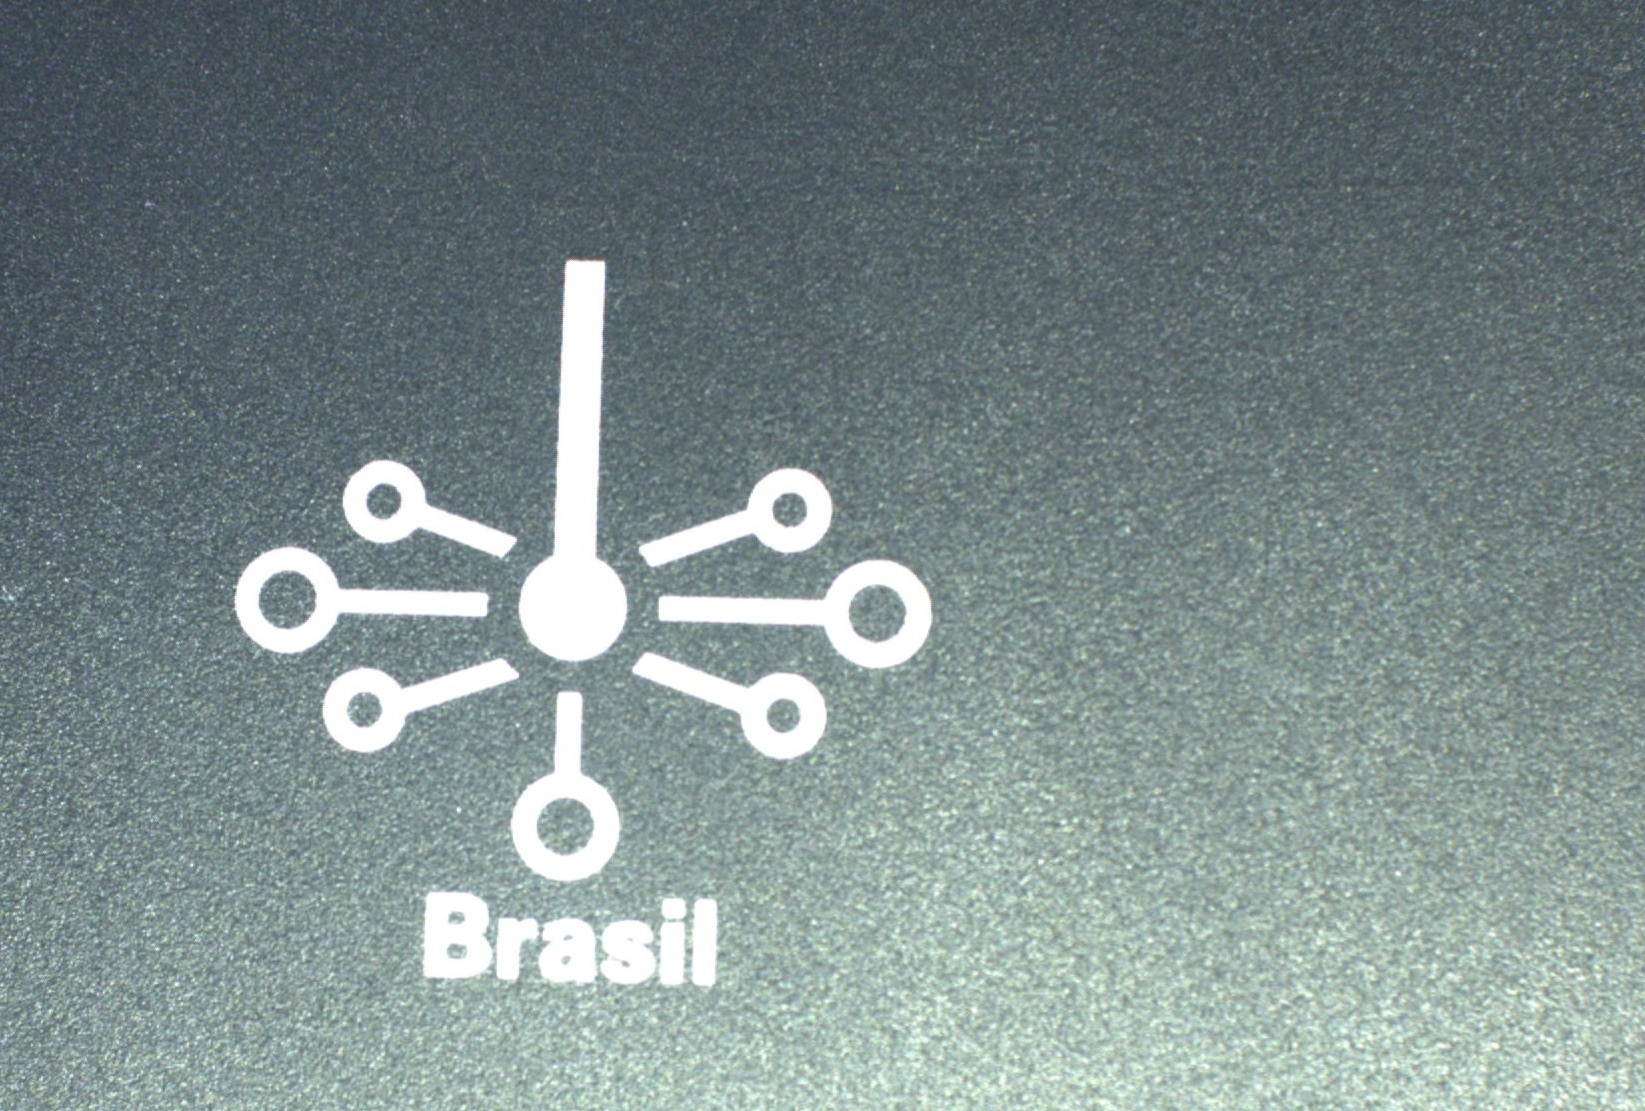BO_Brsail: (192, 254, 942, 1011)
